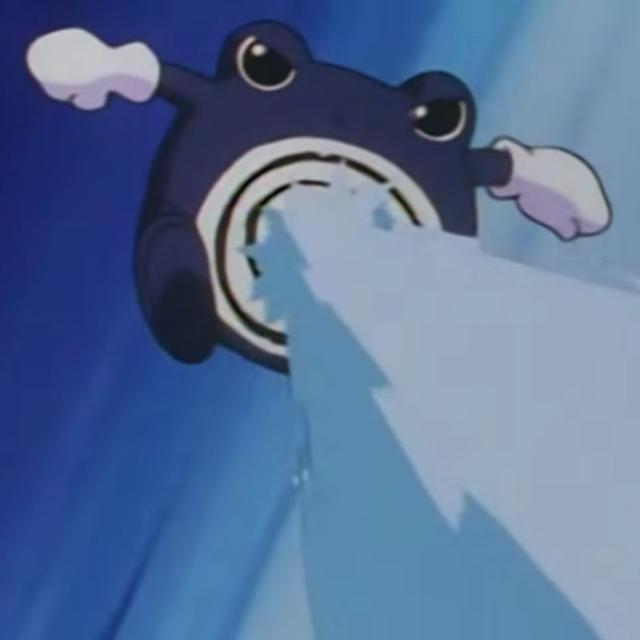Poliwhirl: (27, 8, 609, 356)
